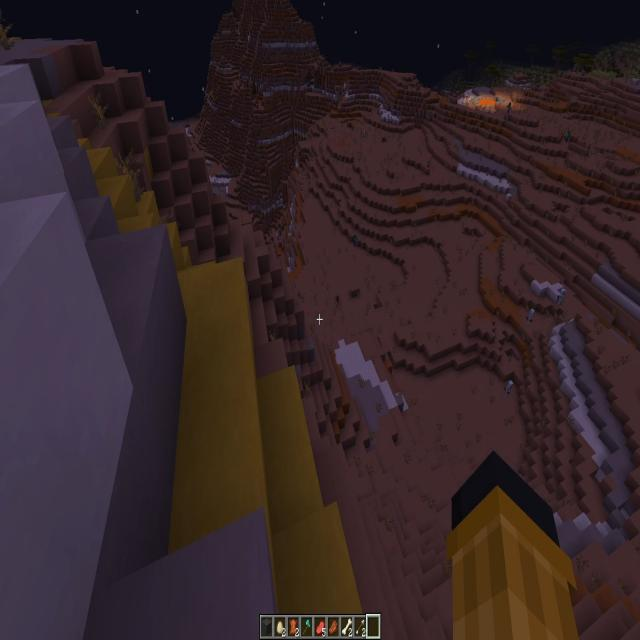Skeleton: (506, 381, 513, 397), (559, 290, 565, 306), (529, 309, 533, 325), (363, 130, 366, 138)
Spider: (382, 136, 386, 142)
Zombie: (353, 233, 357, 245), (566, 130, 570, 142), (508, 102, 510, 114)
